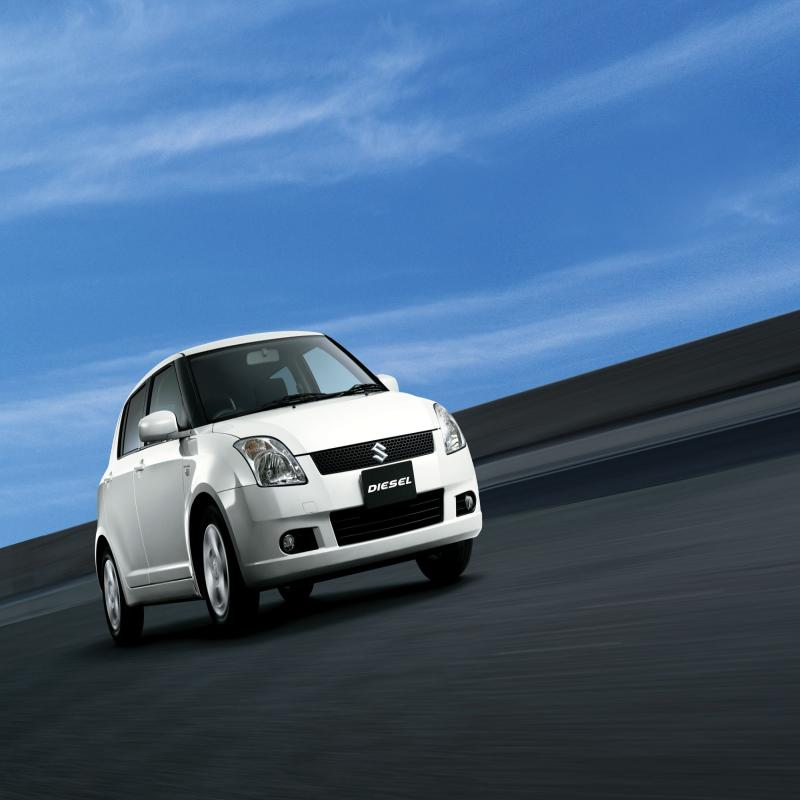car: (86, 308, 490, 622)
